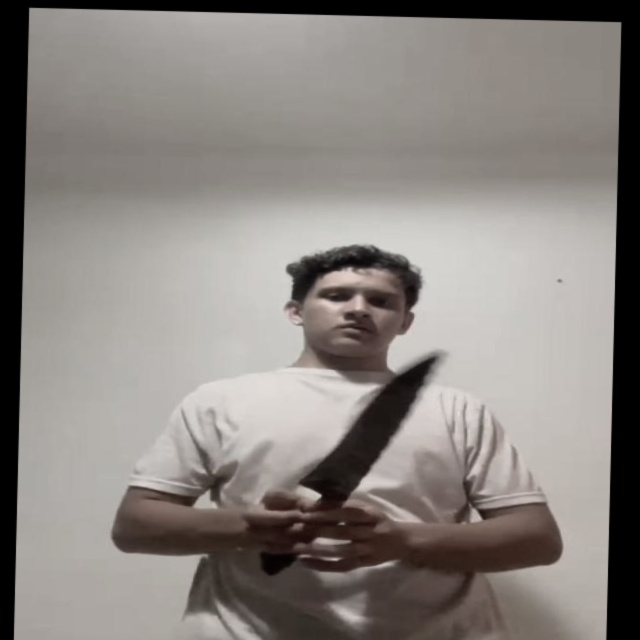Sharp-Object: (295, 352, 440, 497)
